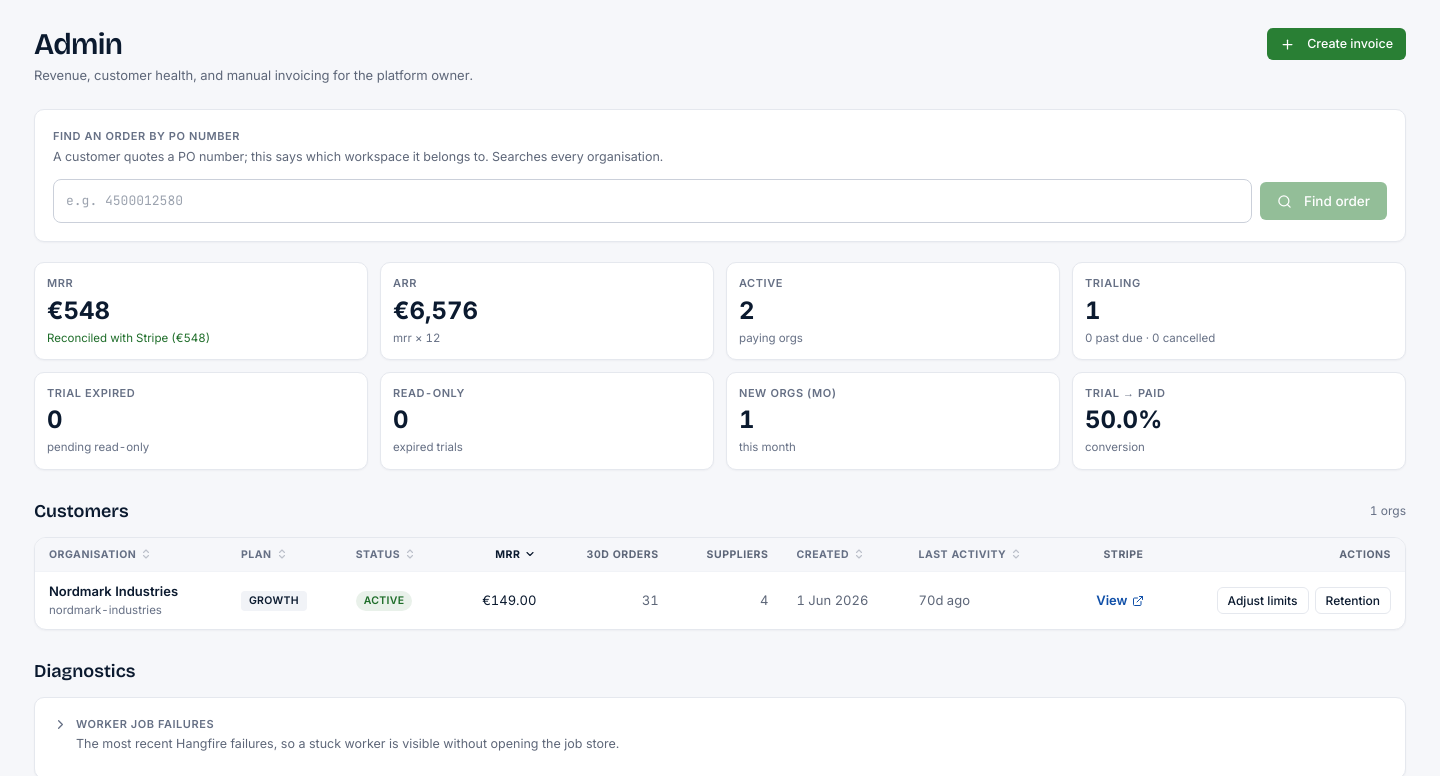
Test: admin — a failed lookup is never rendered as 'no results' › announces the failure and offers a retry
expect the heading "Customers" is shown: met, box top-left (34, 498), bottom-right (129, 525)
Type "4500012580" into the search field named "po number" at (652, 201), box top-left (53, 179), bottom-right (1252, 223)
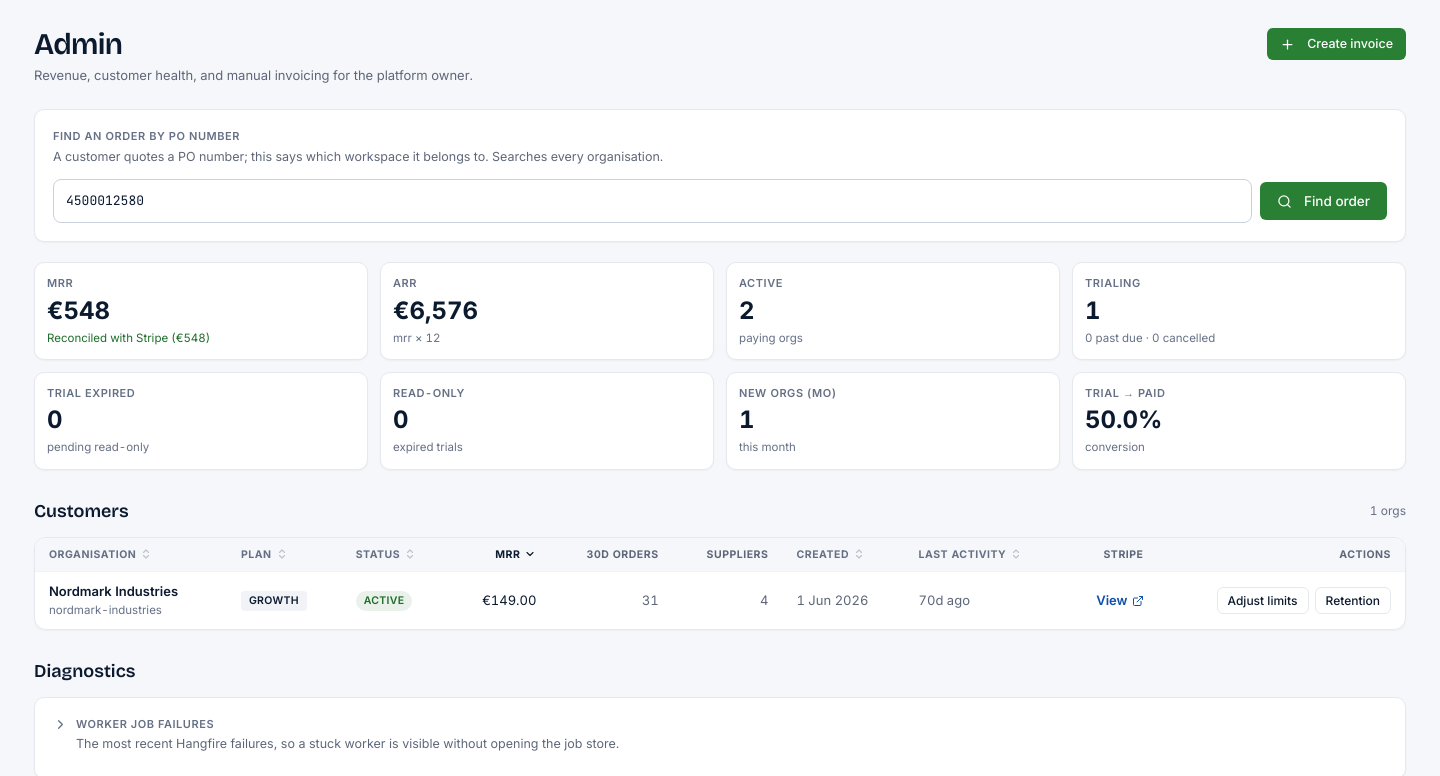
Click the button "Find order" at (1324, 201), box top-left (1260, 182), bottom-right (1387, 220)
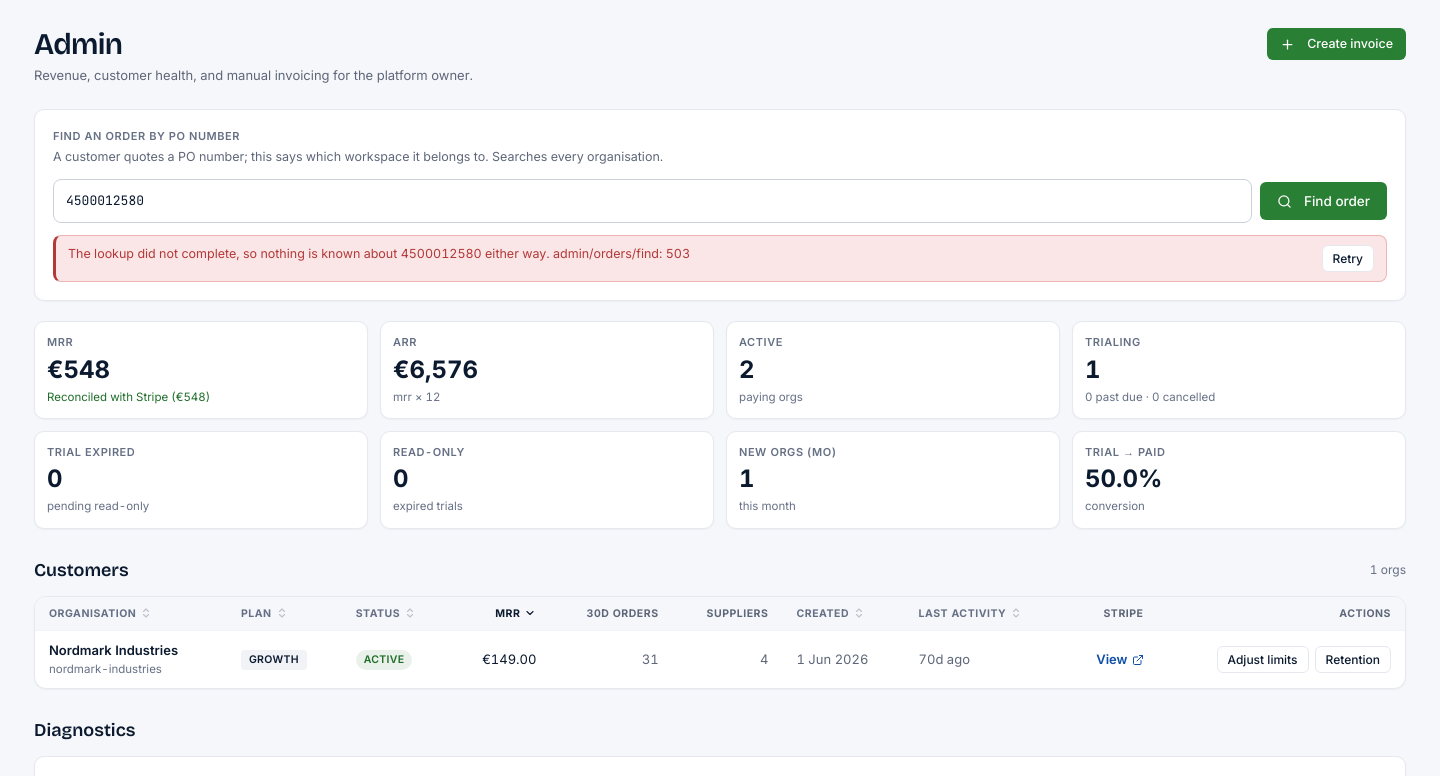
expect the button "Retry" is shown: met, box top-left (1322, 245), bottom-right (1374, 272)
